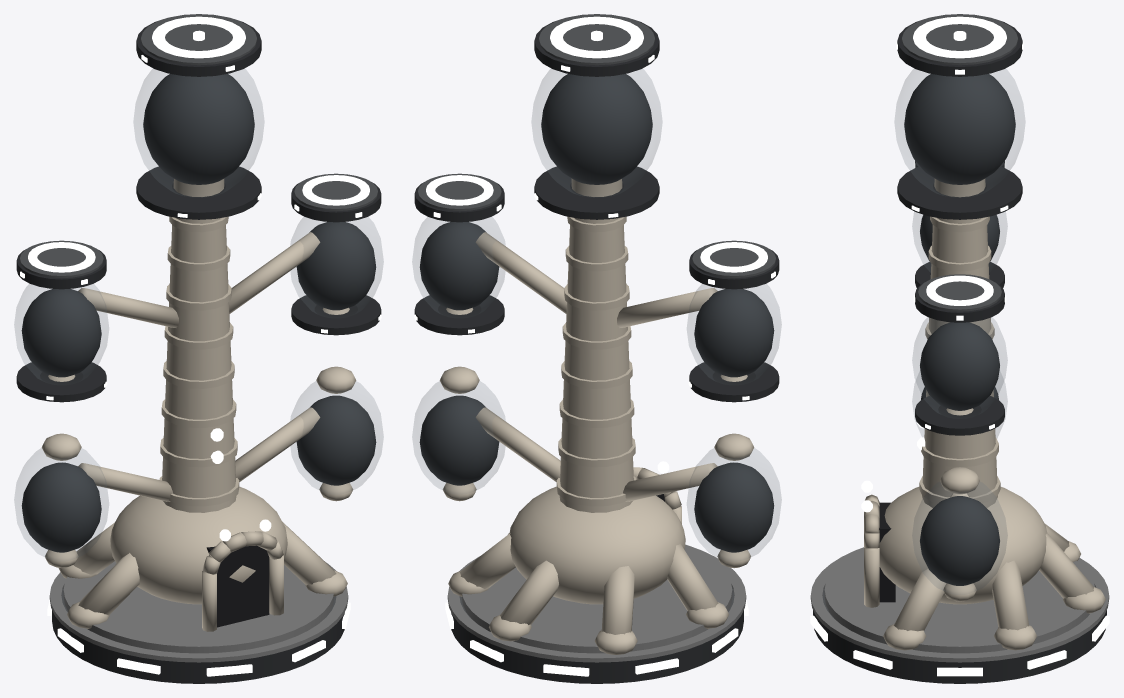
Rendered from Skin_BioPod_T3.glb.
3 views of the same model, side by side, from view 1: azimuth 30°, elevation 25°; view 2: azimuth 150°, elevation 25°; view 3: azimuth 270°, elevation 25° (orthographic).
Parts seen in each view (by area): view 1: Skin_BioPod_T3; view 2: Skin_BioPod_T3; view 3: Skin_BioPod_T3.
Part boxes in pixels (x1,y1,x2,y2): Skin_BioPod_T3: [14, 14, 383, 683]; Skin_BioPod_T3: [412, 14, 781, 683]; Skin_BioPod_T3: [810, 14, 1109, 683].
Size of the model in its own units: 5.34 by 8.4 by 3.87.
